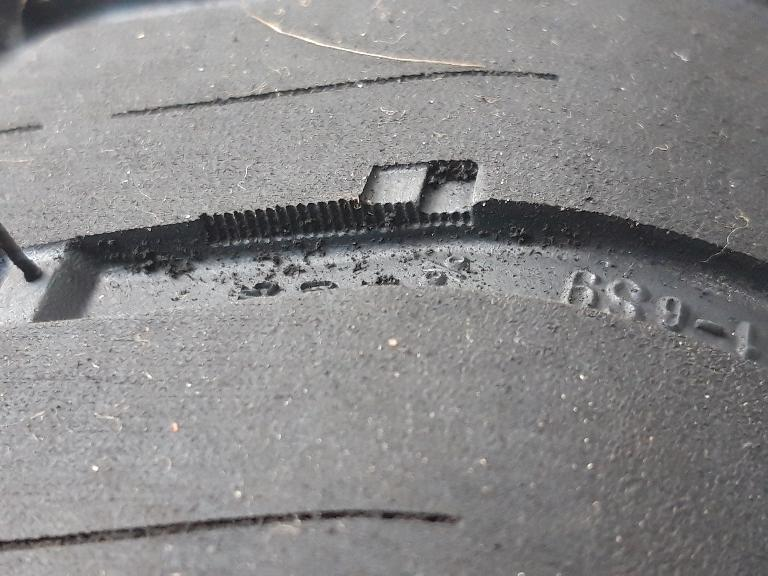temoin:25: (344, 150, 494, 245)
